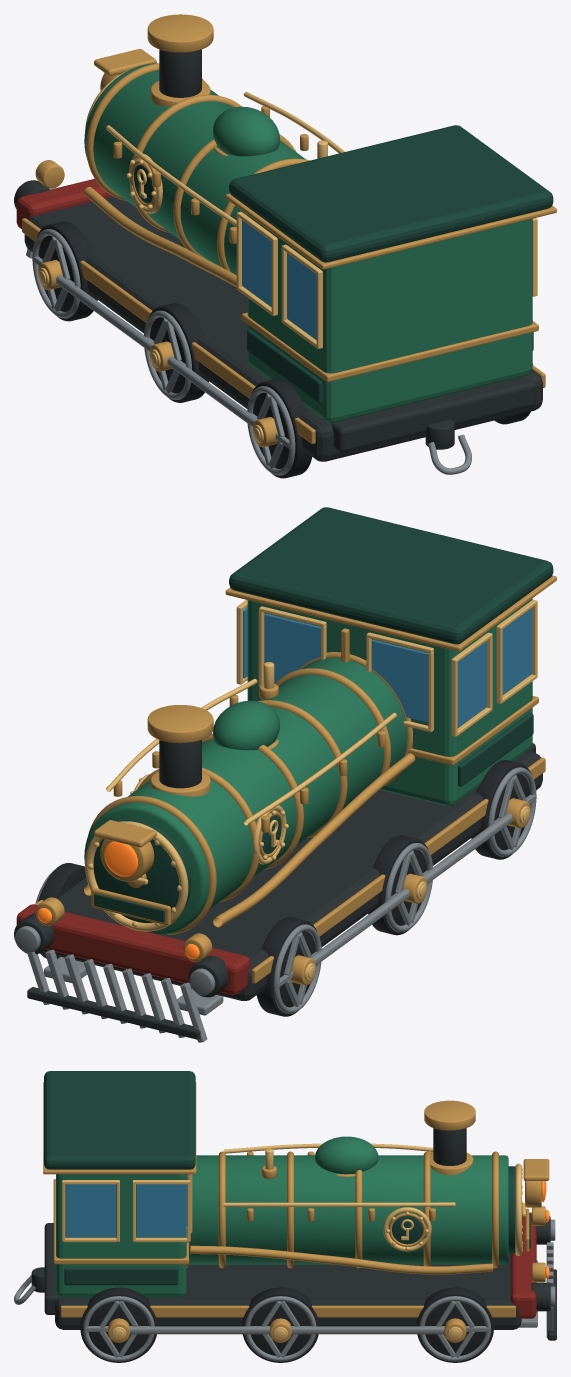
Rendered from lost_things_locomotive.glb.
3 views of the same model, one above another, from view 1: azimuth 30°, elevation 25°; view 2: azimuth 150°, elevation 25°; view 3: azimuth 270°, elevation 25° (orthographic). The views are drawn at different scales.
Visible parts, largest first — view 1: Cab lower body, Cab roof, Locomotive underframe, Pressure boiler | enamel barrel, Rear coupling beam, Chassis brass side rail L, Steam dome, Cab waist brass moulding, Cab roof brass edge, LocomotiveConnectingRod_L, Wheel -1 2 | tyre, Smokestack flared cap (+21 smaller); view 2: Pressure boiler | enamel barrel, Cab roof, Locomotive underframe, Cab lower body, Front oxblood buffer beam, Cab front glass.001, Smokebox front door, Boiler steam pipe, Chassis brass side rail L, Cab front glass, Steam dome, Cab roof brass edge (+31 smaller); view 3: Pressure boiler | enamel barrel, Cab roof, Locomotive underframe, Cab lower body, Chassis brass side rail R, Cab side window glass.003, Boiler steam pipe.001, Cab side window glass, LocomotiveConnectingRod_R, Wheel 1 2 | tyre, Wheel 1 0 | tyre, Wheel 1 1 | tyre (+26 smaller).
Boxes of the visible parts, x1,y1,x2,y2 form: Cab lower body: (247, 215, 532, 422); Cab roof: (229, 125, 553, 262); Locomotive underframe: (24, 196, 542, 461); Pressure boiler | enamel barrel: (84, 63, 305, 274); Rear coupling beam: (331, 376, 535, 452); Chassis brass side rail L: (22, 218, 315, 444); Steam dome: (213, 106, 279, 156); Cab waist brass moulding: (241, 312, 538, 381); Cab roof brass edge: (225, 193, 556, 269); LocomotiveConnectingRod_L: (56, 275, 257, 426); Wheel -1 2 | tyre: (251, 378, 311, 478); Smokestack flared cap: (147, 14, 213, 52); Pressure boiler | enamel barrel: (84, 657, 407, 934); Cab roof: (229, 507, 553, 644); Locomotive underframe: (42, 751, 542, 1000); Cab lower body: (247, 598, 532, 806); Front oxblood buffer beam: (16, 904, 250, 995); Cab front glass.001: (371, 639, 428, 722); Smokebox front door: (93, 820, 191, 922); Boiler steam pipe: (213, 753, 415, 927); Chassis brass side rail L: (251, 757, 545, 983); Cab front glass: (264, 613, 320, 683); Steam dome: (213, 700, 279, 750); Cab roof brass edge: (225, 575, 556, 651); Pressure boiler | enamel barrel: (189, 1155, 508, 1264); Cab roof: (44, 1071, 195, 1169); Locomotive underframe: (55, 1253, 521, 1329); Cab lower body: (56, 1174, 186, 1297); Chassis brass side rail R: (60, 1305, 515, 1317); Cab side window glass.003: (136, 1184, 186, 1237); Boiler steam pipe.001: (190, 1245, 493, 1274); Cab side window glass: (66, 1184, 115, 1237); LocomotiveConnectingRod_R: (129, 1326, 444, 1334); Wheel 1 2 | tyre: (80, 1287, 157, 1362); Wheel 1 0 | tyre: (416, 1287, 493, 1362); Wheel 1 1 | tyre: (242, 1287, 319, 1362).
Size of the model in its own units: 3.23 by 3 by 7.15.
